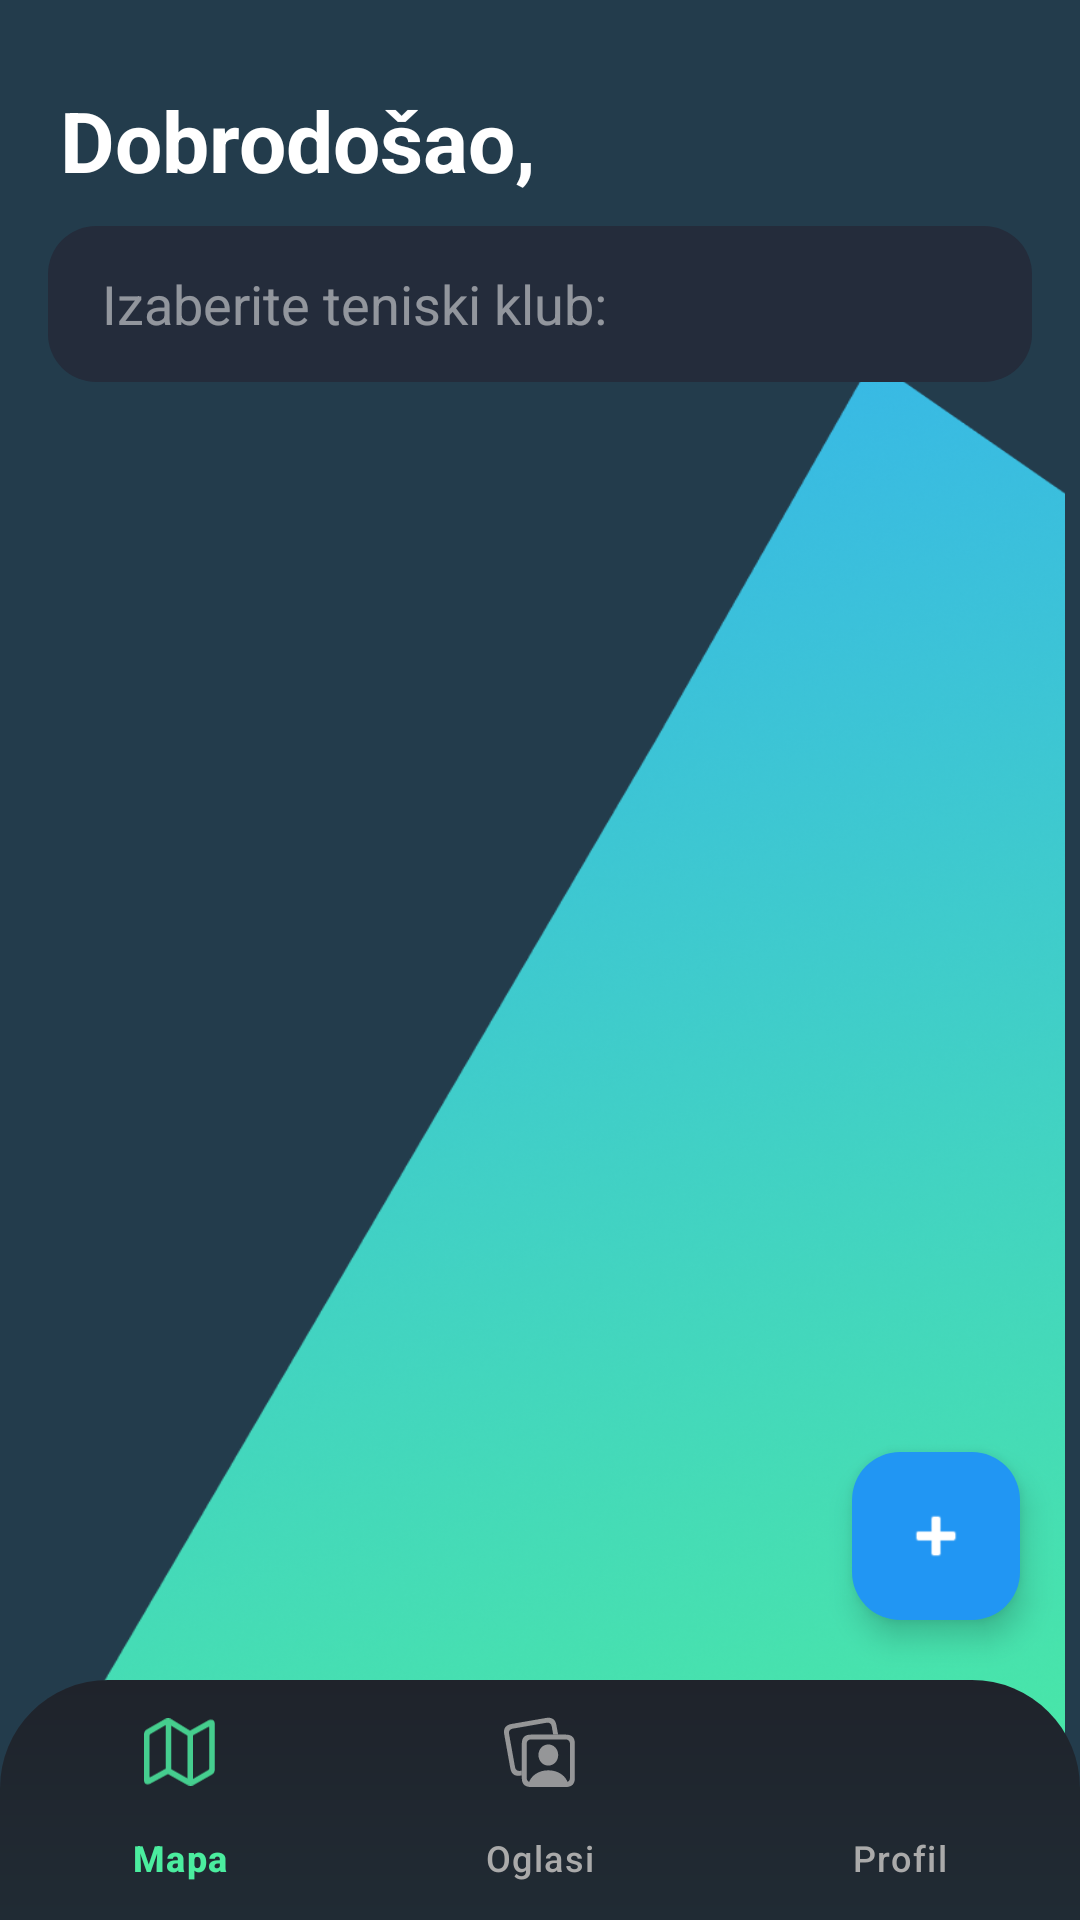

Locate icon controls on the screen. Image size 1080w x 1920h, boxes as bbox(x1, y1, x2, y2).
Dodaj: bbox(852, 1452, 1020, 1620)
